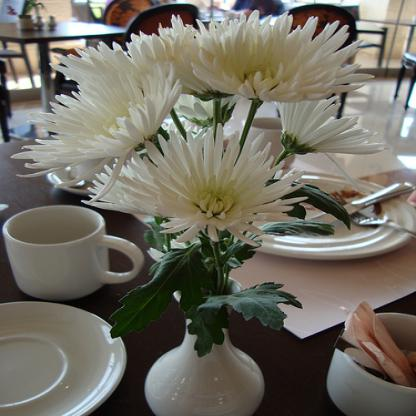chair: (275, 4, 356, 118), (126, 2, 202, 58), (102, 0, 169, 30)
diningtable: (0, 134, 415, 415), (0, 15, 132, 107)
pottedplant: (14, 0, 41, 30)
